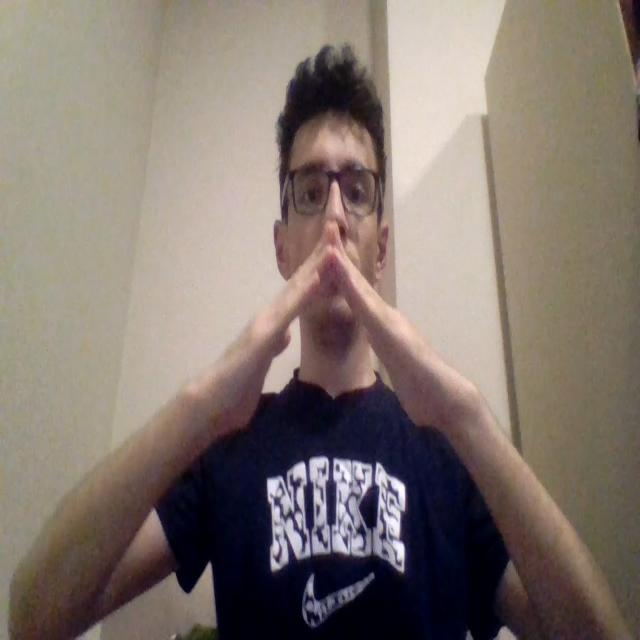house: (218, 232, 458, 425)
